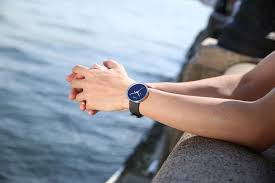clock: (127, 83, 148, 102)
